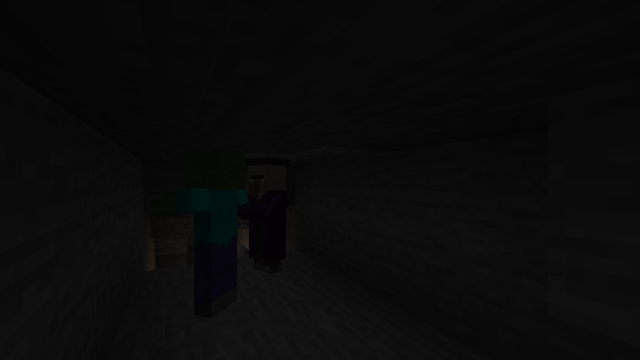sorcieres: (253, 159, 289, 277)
zombies: (189, 150, 246, 324)
